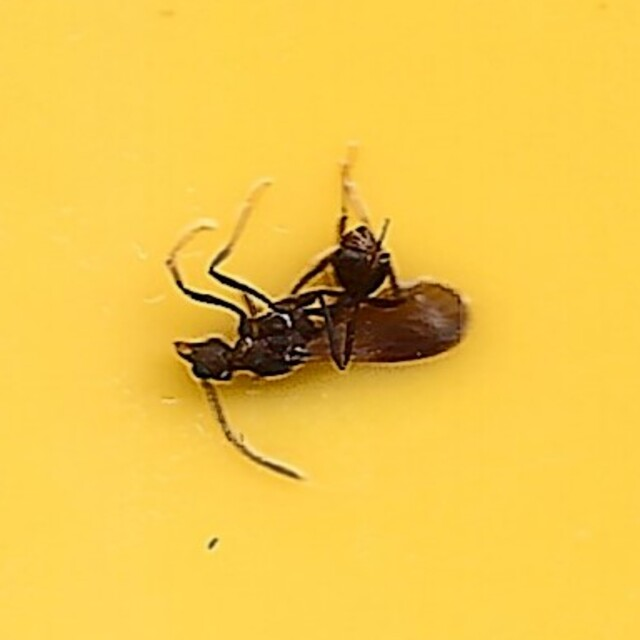Hymenoptera: (167, 152, 473, 488)
